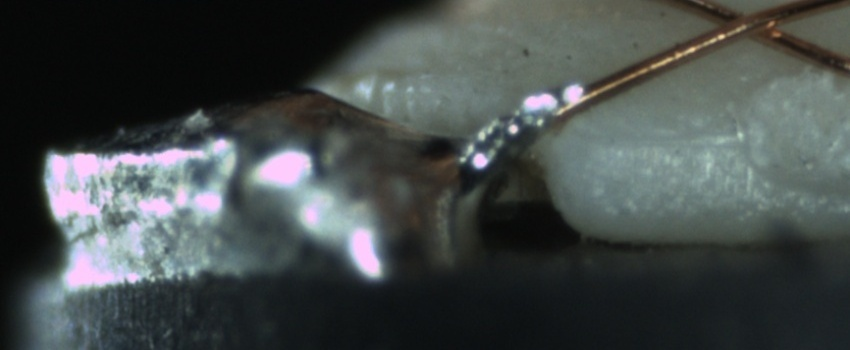CL: (694, 2, 804, 46)
DL: (577, 109, 743, 169)
TB: (456, 89, 555, 185)
TTCW: (460, 68, 632, 183)
